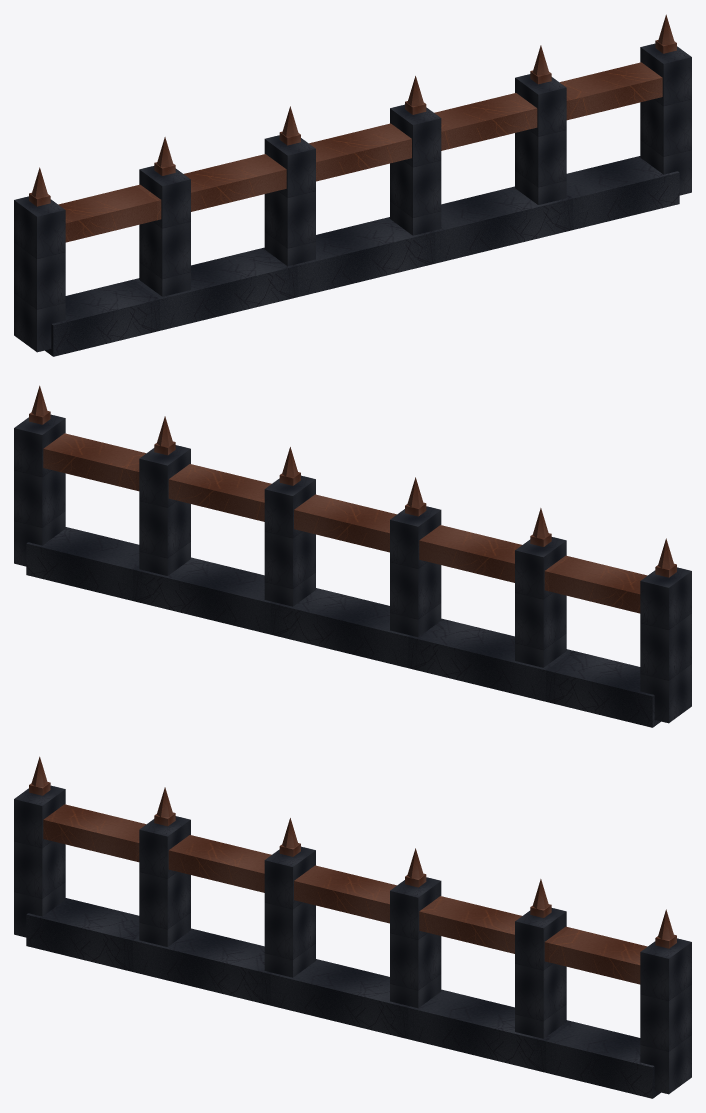
Rendered from blackstone-parapet.glb.
3 views of the same model, one above another, from view 1: azimuth 30°, elevation 25°; view 2: azimuth 150°, elevation 25°; view 3: azimuth 330°, elevation 25° (orthographic).
Visible parts, largest first — view 1: Parapet_Foot, Parapet_Rail, Parapet_Post_1, Parapet_Post_6, Parapet_Post_4, Parapet_Post_5, Parapet_Post_2, Parapet_Post_3; view 2: Parapet_Foot, Parapet_Rail, Parapet_Post_1, Parapet_Post_6, Parapet_Post_4, Parapet_Post_5, Parapet_Post_2, Parapet_Post_3; view 3: Parapet_Foot, Parapet_Rail, Parapet_Post_6, Parapet_Post_1, Parapet_Post_3, Parapet_Post_2, Parapet_Post_5, Parapet_Post_4.
Boxes of the visible parts, bbox=[...] form: Parapet_Foot: bbox=[45, 156, 679, 356]; Parapet_Rail: bbox=[58, 62, 662, 242]; Parapet_Post_1: bbox=[14, 196, 65, 352]; Parapet_Post_6: bbox=[640, 43, 691, 195]; Parapet_Post_4: bbox=[390, 104, 441, 235]; Parapet_Post_5: bbox=[515, 74, 566, 204]; Parapet_Post_2: bbox=[139, 166, 190, 296]; Parapet_Post_3: bbox=[264, 135, 315, 266]; Parapet_Foot: bbox=[26, 527, 660, 727]; Parapet_Rail: bbox=[43, 433, 647, 613]; Parapet_Post_1: bbox=[640, 567, 691, 723]; Parapet_Post_6: bbox=[14, 414, 65, 566]; Parapet_Post_4: bbox=[264, 475, 315, 606]; Parapet_Post_5: bbox=[139, 445, 190, 575]; Parapet_Post_2: bbox=[515, 537, 566, 667]; Parapet_Post_3: bbox=[390, 506, 441, 637]; Parapet_Foot: bbox=[26, 898, 660, 1098]; Parapet_Rail: bbox=[43, 804, 647, 984]; Parapet_Post_6: bbox=[640, 938, 691, 1094]; Parapet_Post_1: bbox=[14, 785, 65, 937]; Parapet_Post_3: bbox=[264, 846, 315, 977]; Parapet_Post_2: bbox=[139, 816, 190, 946]; Parapet_Post_5: bbox=[515, 908, 566, 1038]; Parapet_Post_4: bbox=[390, 877, 441, 1008].
Bounding box in the file's own units: 7.84 × 2.06 × 0.56.
2 materials, 2 textured.
